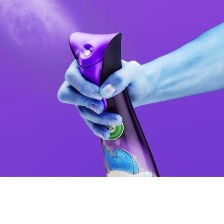aerosol_cans: (61, 25, 174, 222)
